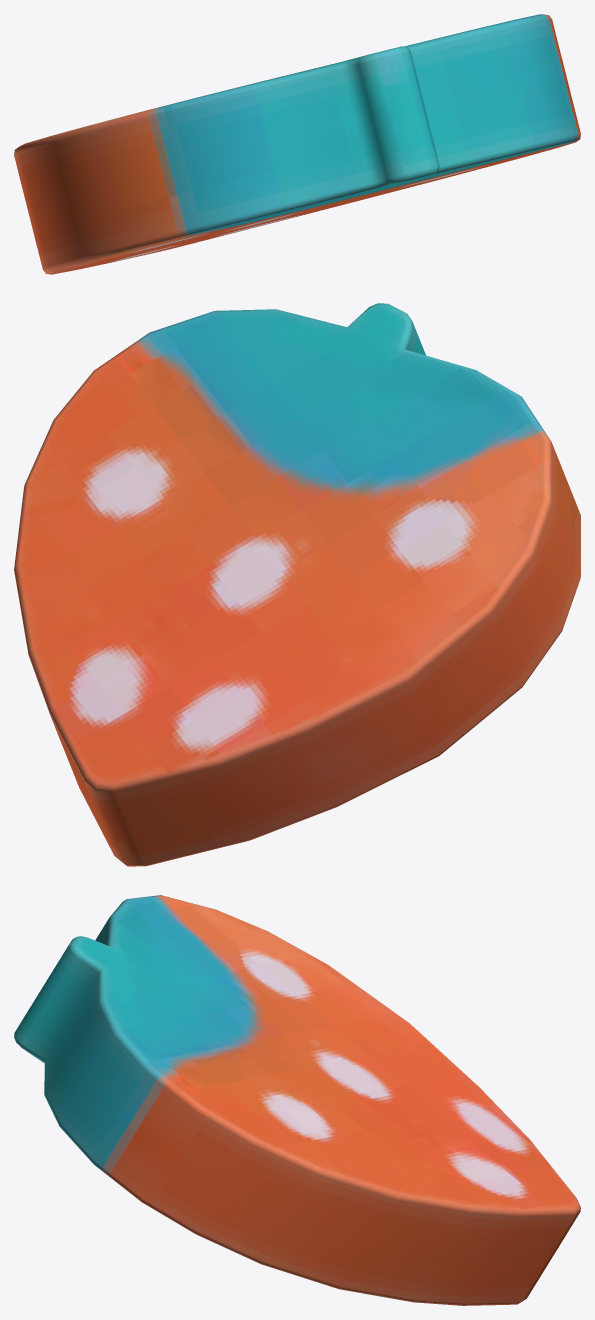
File: ref_gtfruiteraser.glb
3 views of the same model, one above another, from view 1: azimuth 30°, elevation 25°; view 2: azimuth 150°, elevation 25°; view 3: azimuth 270°, elevation 25° (orthographic). The views are drawn at different scales.
Parts seen in each view (by area): view 1: ref_gtfruiteraser; view 2: ref_gtfruiteraser; view 3: ref_gtfruiteraser.
Part boxes in pixels (x1=…): ref_gtfruiteraser: x1=14, y1=14, x2=580, y2=274; ref_gtfruiteraser: x1=14, y1=303, x2=580, y2=866; ref_gtfruiteraser: x1=14, y1=895, x2=580, y2=1305.
Bounding box in the file's own units: 0.908 × 0.6856 × 1.
1 material, 1 textured.
